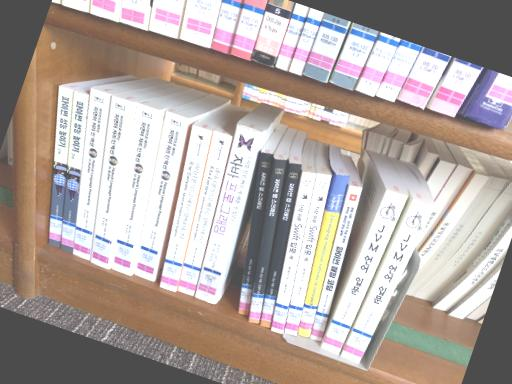book-spine: (340, 199, 433, 363), (320, 189, 407, 354), (195, 124, 261, 304), (133, 111, 188, 281), (178, 131, 232, 296), (160, 125, 212, 292), (298, 174, 349, 337), (308, 185, 361, 341), (111, 103, 158, 275), (284, 173, 331, 335), (90, 96, 132, 269), (271, 171, 315, 334), (260, 164, 301, 327), (73, 88, 111, 260), (249, 160, 286, 324), (239, 153, 272, 315), (60, 91, 88, 251), (48, 86, 73, 247)
